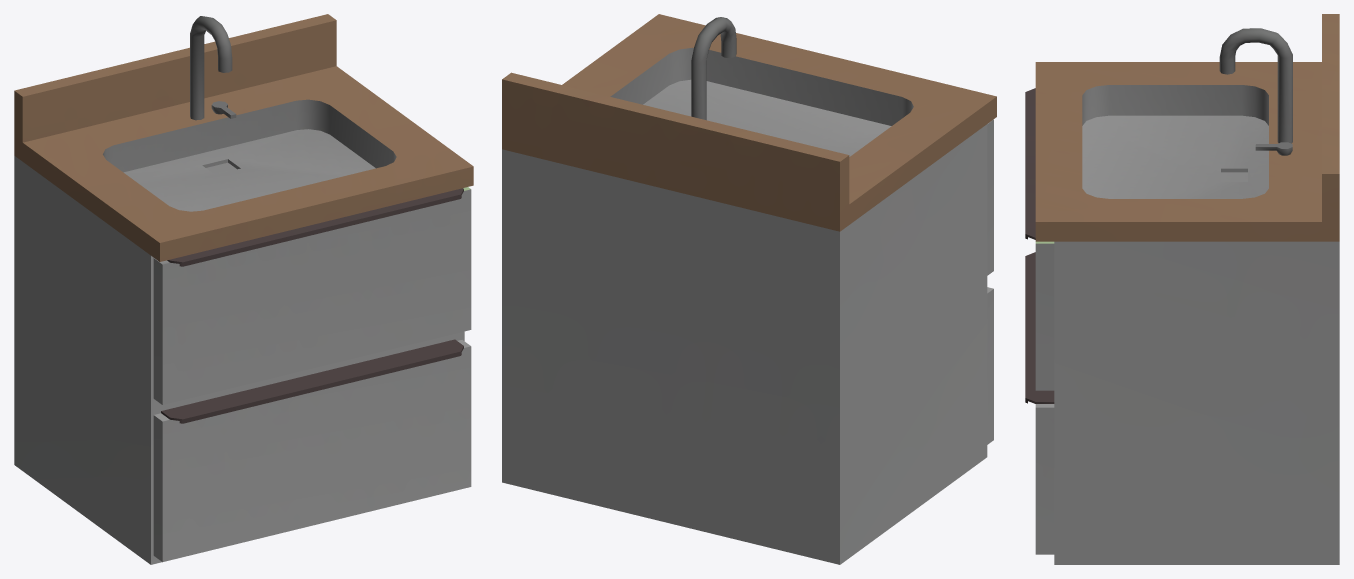
File: KitchenBlock_Sink.fbx
The picture shows the model from 3 angles, left to right: view 1: azimuth 30°, elevation 25°; view 2: azimuth 150°, elevation 25°; view 3: azimuth 270°, elevation 25°; orthographic projection. The views are drawn at different scales.
Parts seen in each view (by area): view 1: Kit_1_Block_G; view 2: Kit_1_Block_G; view 3: Kit_1_Block_G.
Boxes of the visible parts, x1=… form: Kit_1_Block_G: x1=14, y1=14, x2=473, y2=564; Kit_1_Block_G: x1=502, y1=14, x2=996, y2=564; Kit_1_Block_G: x1=1025, y1=14, x2=1339, y2=564.
Size of the model in its own units: 82.46 by 110 by 68.51.
